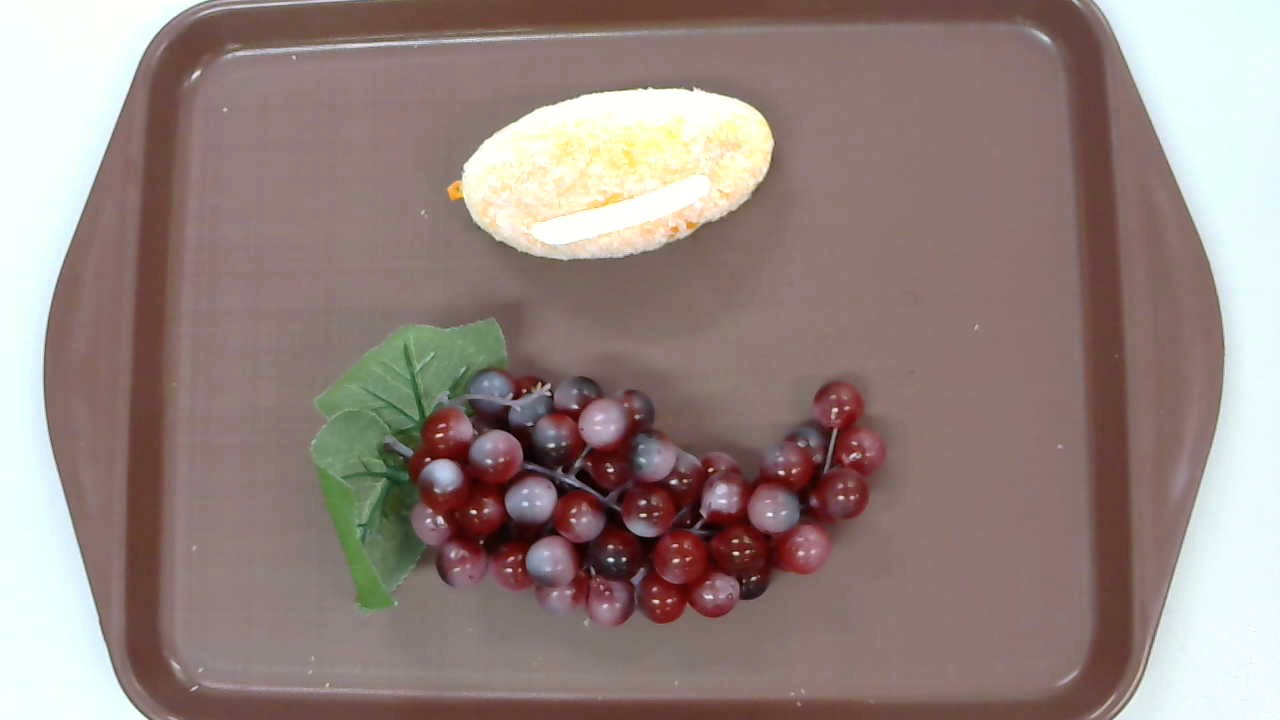coconut: (446, 87, 775, 259)
grape: (307, 316, 888, 625)
